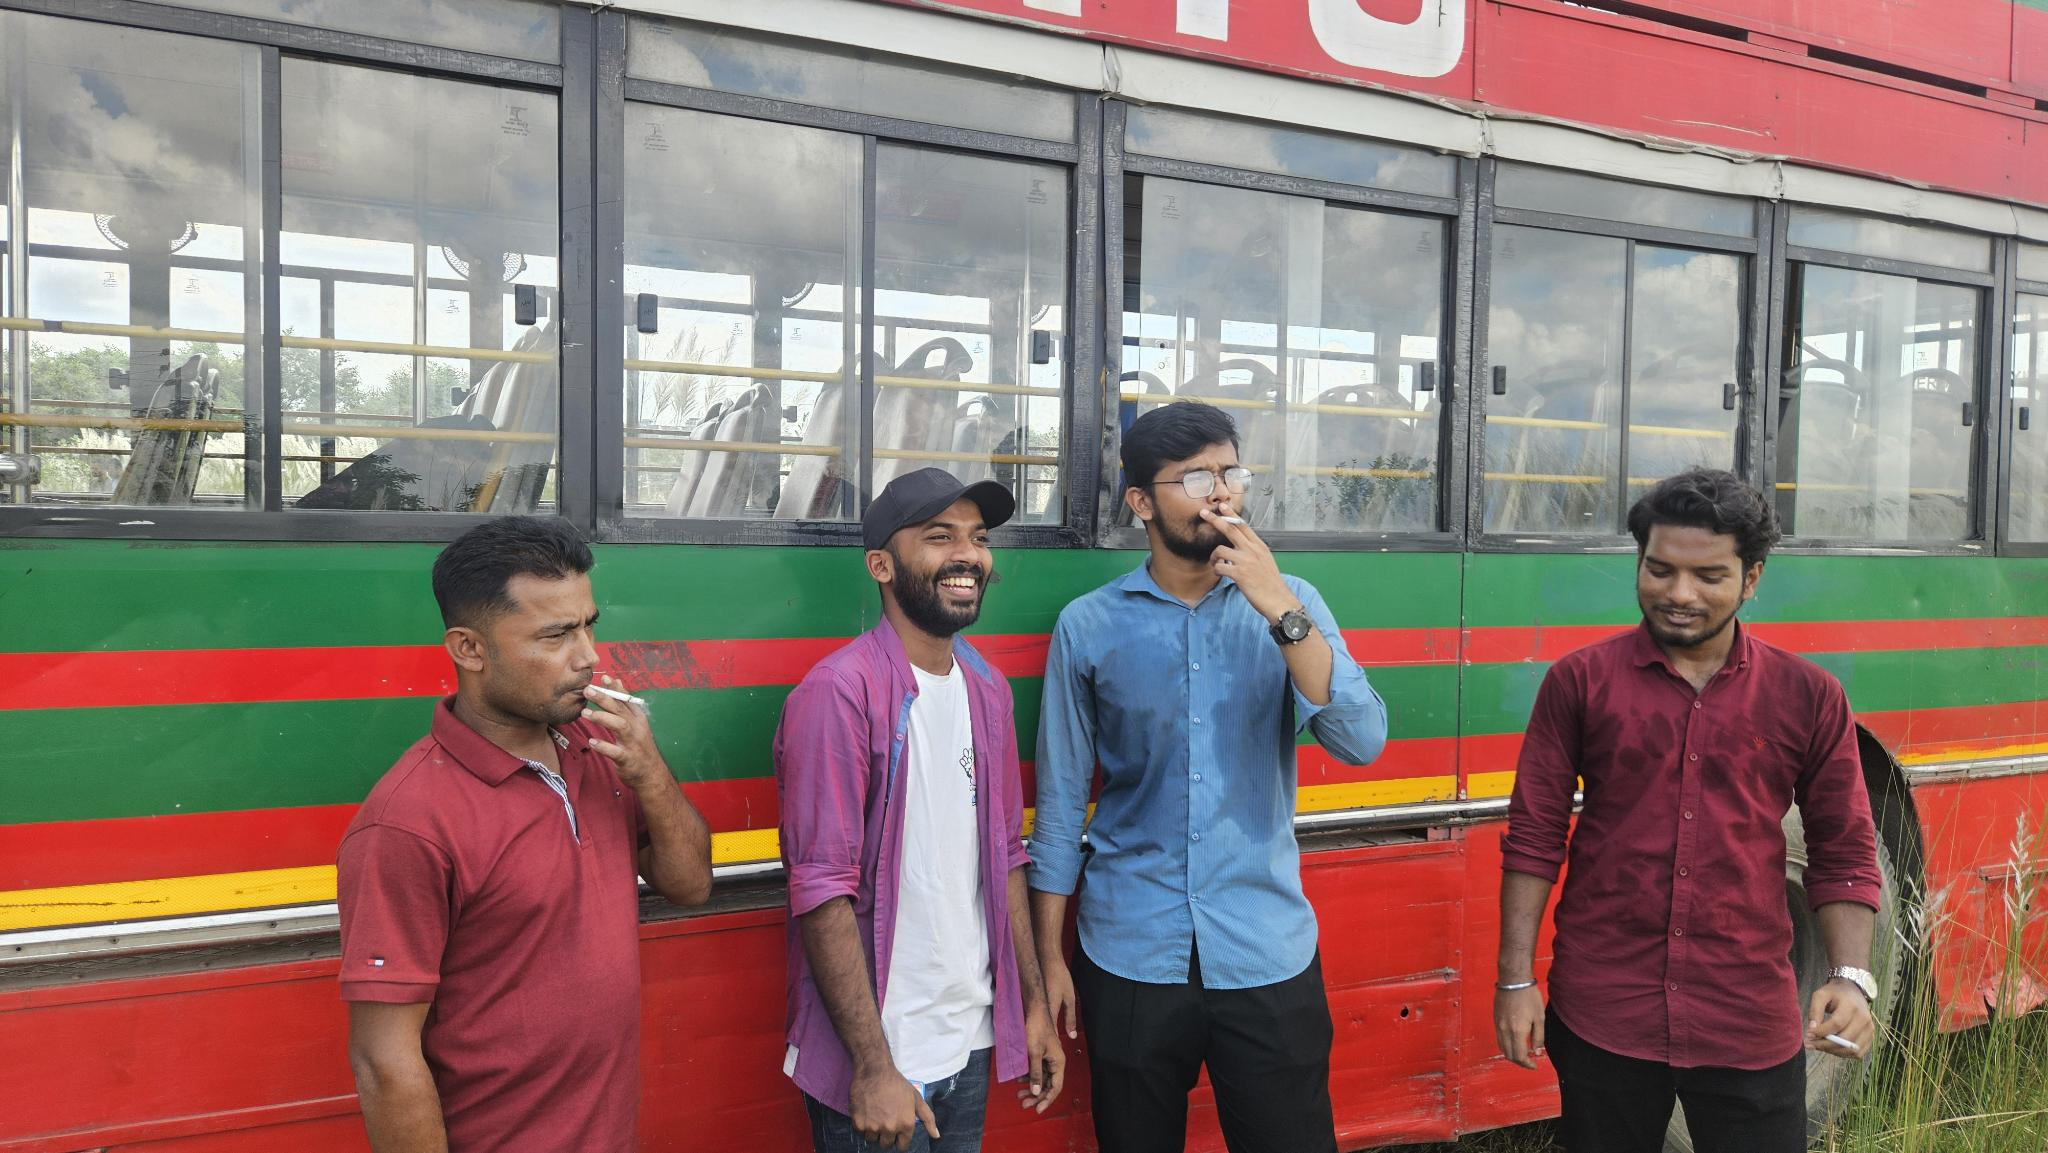cigarette: (585, 681, 647, 709), (1824, 1032, 1862, 1053), (1217, 515, 1248, 526)
nonSmoker: (774, 467, 1065, 1153)
smoker: (1025, 401, 1388, 1153), (1492, 471, 1883, 1153), (335, 516, 713, 1153)
